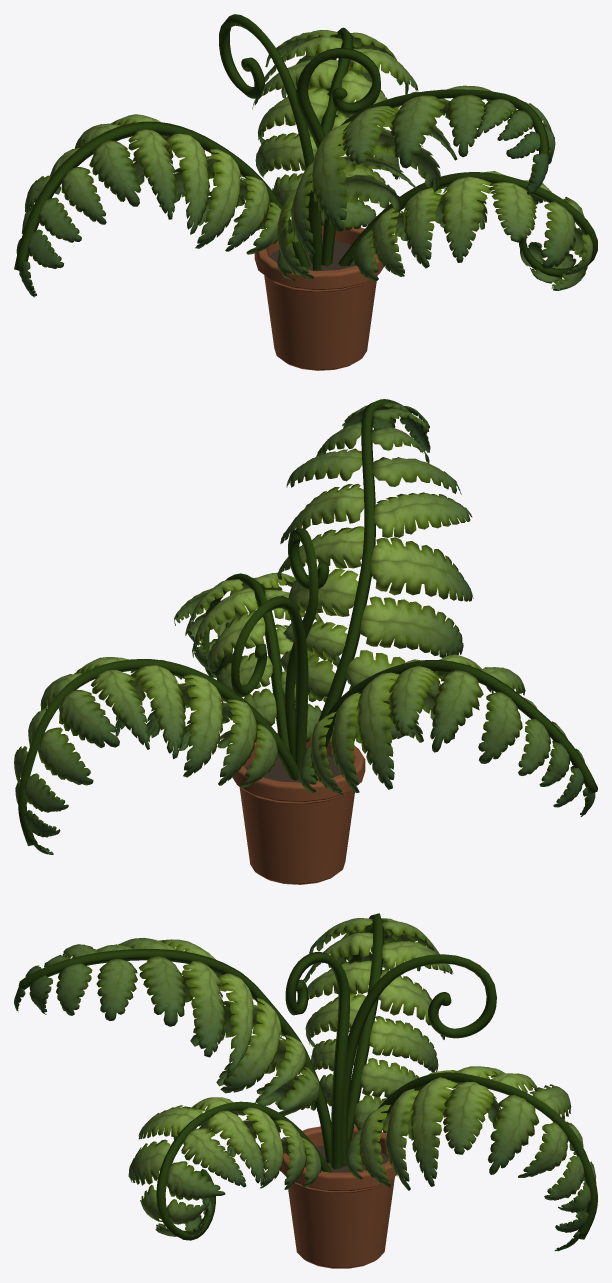
File: plant2.glb
The picture shows the model from 3 angles, top to bottom: view 1: azimuth 30°, elevation 25°; view 2: azimuth 150°, elevation 25°; view 3: azimuth 270°, elevation 25°; orthographic projection. The views are drawn at different scales.
Parts seen in each view (by area): view 1: Potted Plant - Bracken.001; view 2: Potted Plant - Bracken.001; view 3: Potted Plant - Bracken.001.
Part boxes in pixels (x1,y1,x2,y2): Potted Plant - Bracken.001: (14, 14, 597, 370); Potted Plant - Bracken.001: (14, 399, 597, 884); Potted Plant - Bracken.001: (14, 913, 597, 1268).
Size of the model in its own units: 0.6267 by 0.4173 by 0.6787.
3 materials, 1 textured.
